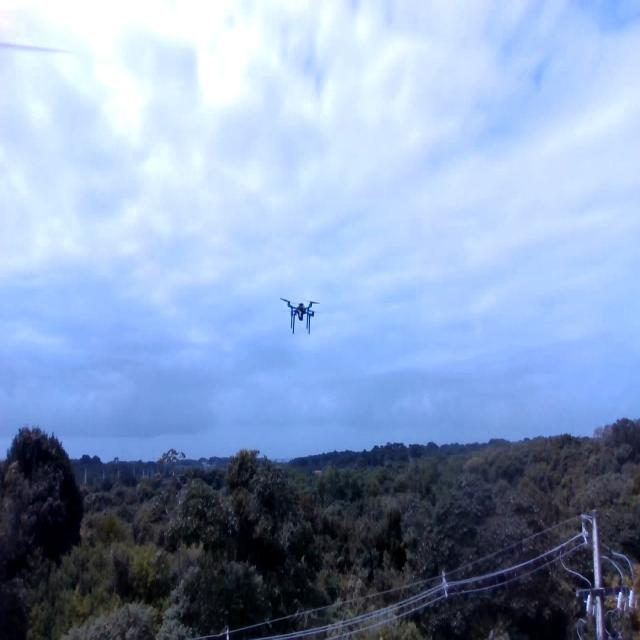-uav-: (279, 282, 322, 342)
